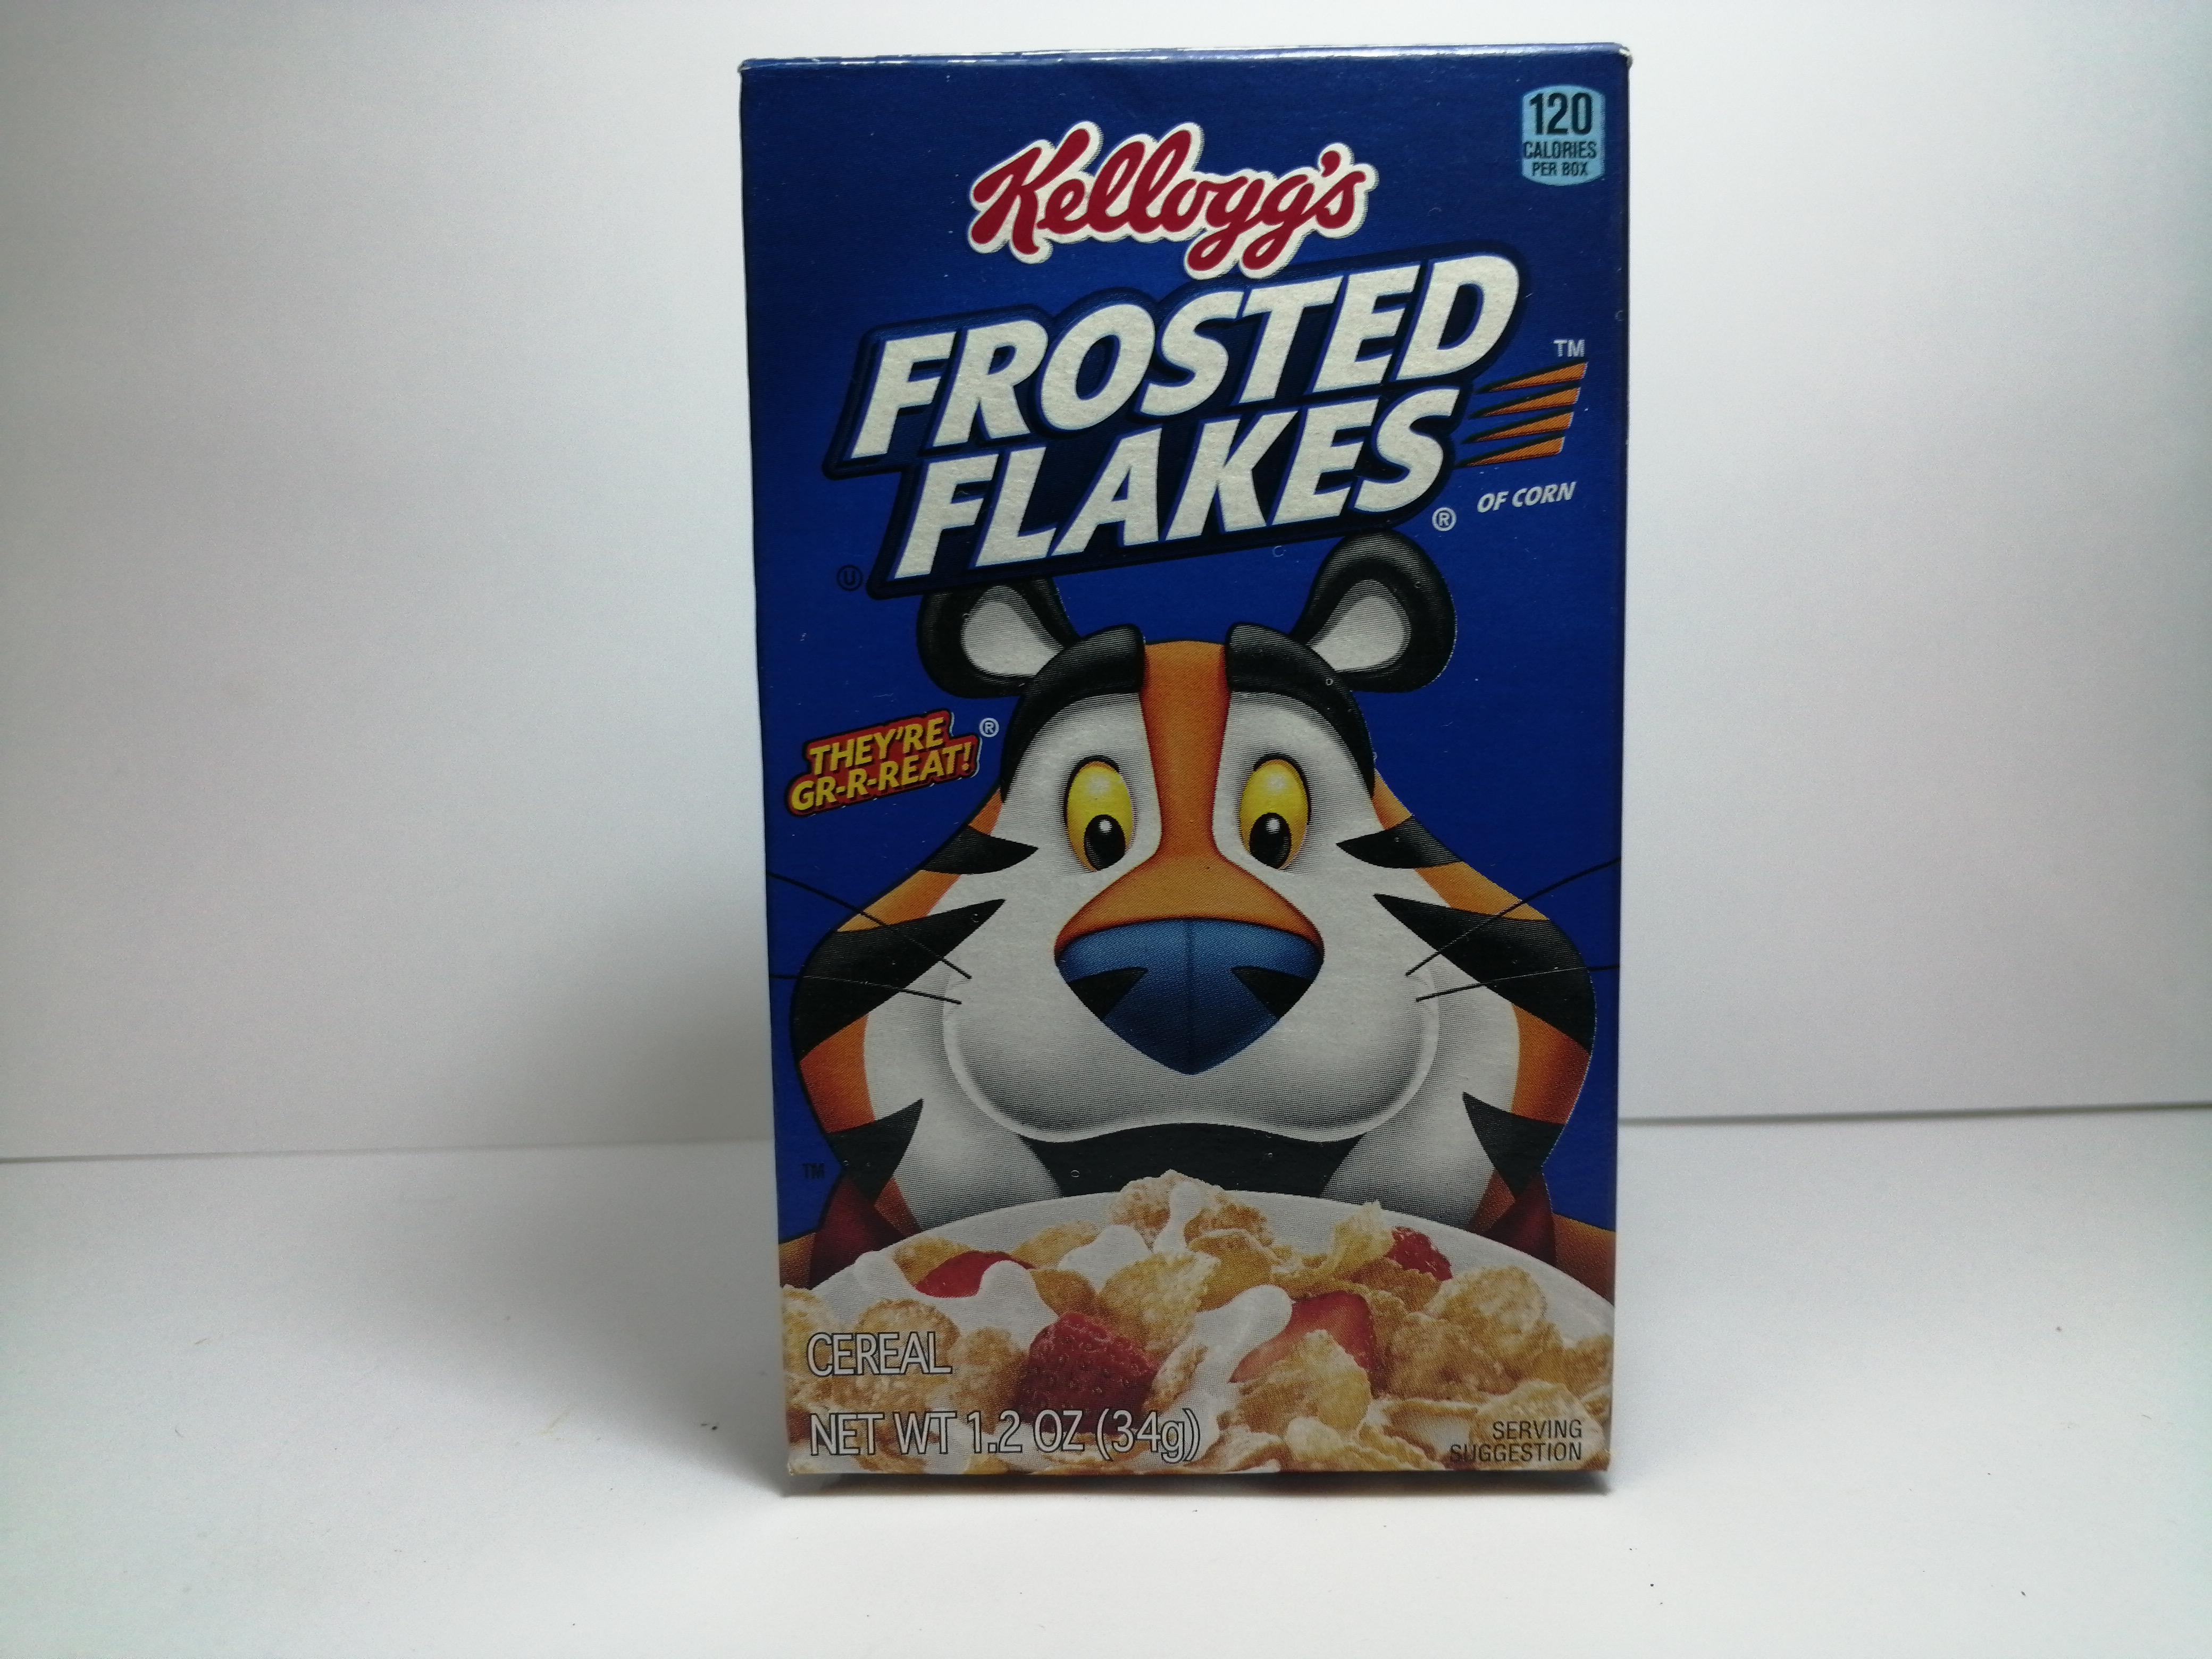cereal azucarado: (711, 26, 1648, 1513)
